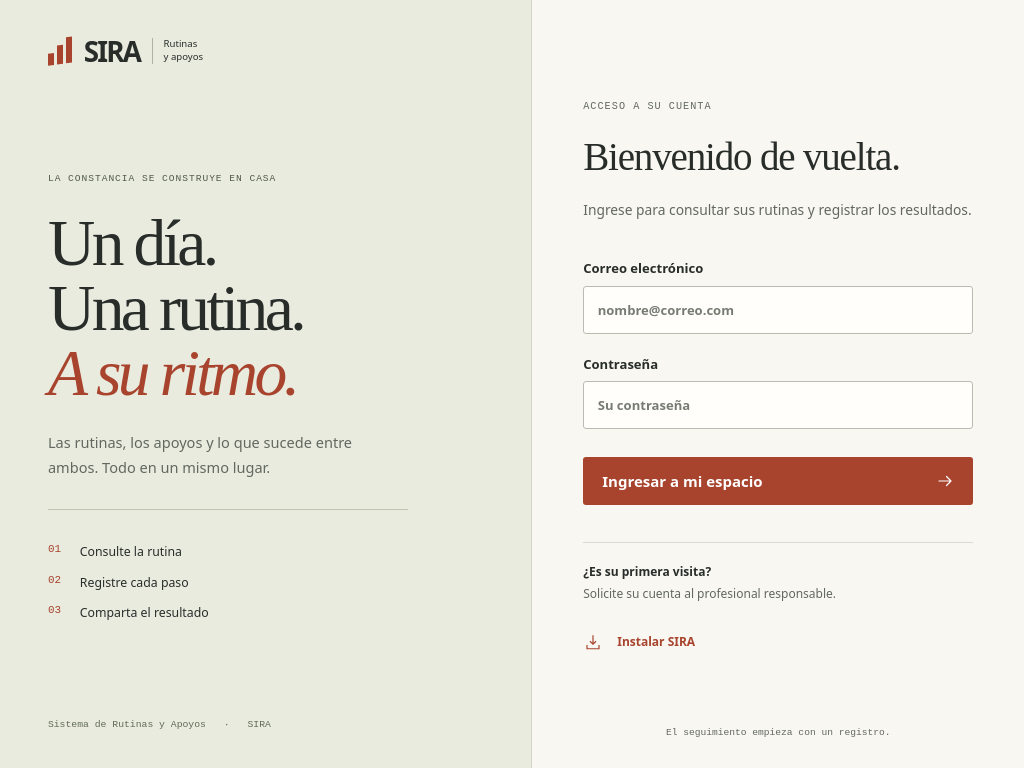
Test: si falla el acceso administrativo conserva el login y permite reintentar
Type "mariana@example.org" into the field labelled "Correo electrónico".
click(778, 310); type("mariana@example.org")  # box [583, 286, 973, 334]
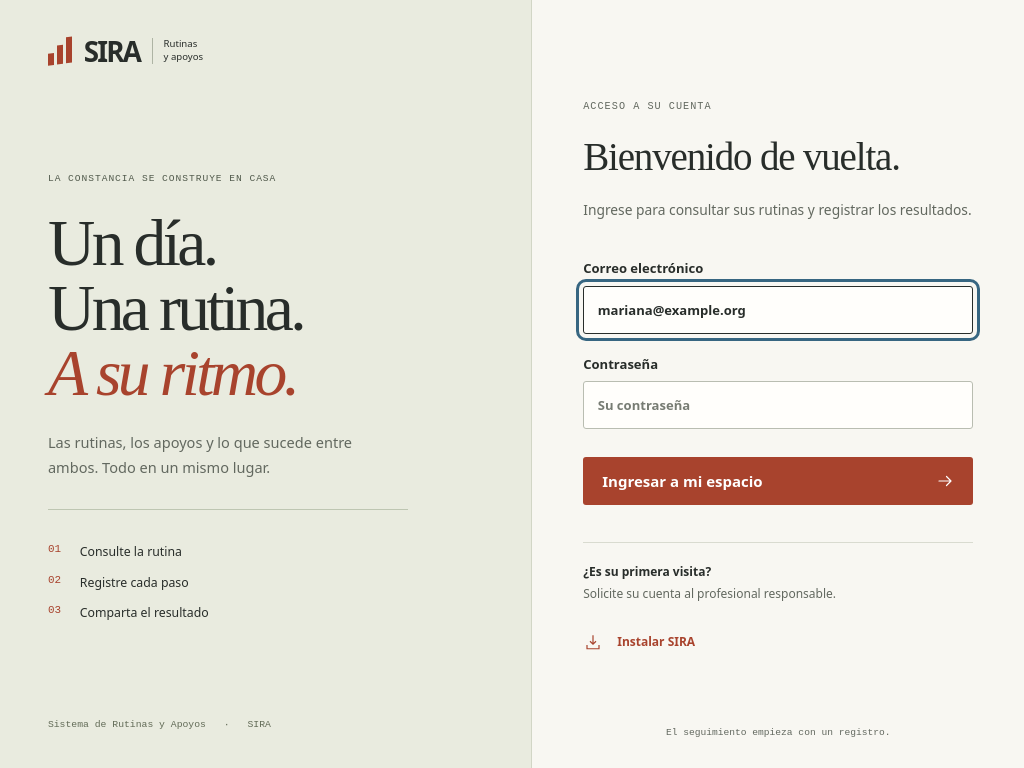
Type "PasswordPrueba2026!" into the password field labelled "Contraseña".
click(778, 405); type("PasswordPrueba2026!")  # box [583, 381, 973, 429]
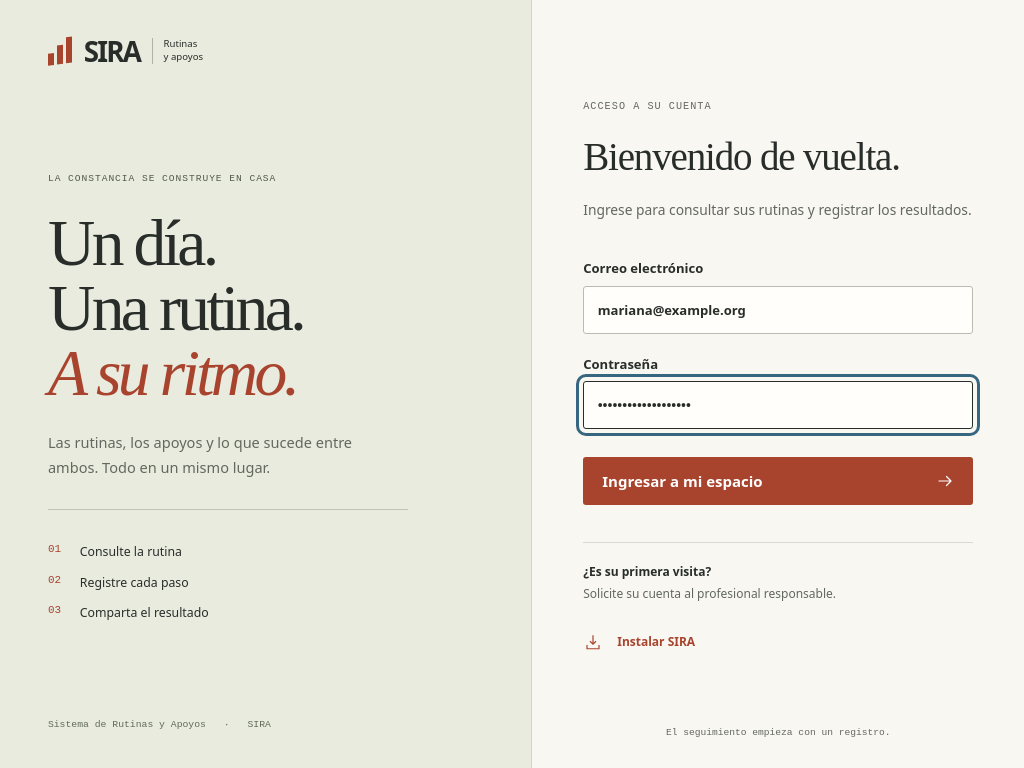
Click the button "Ingresar a mi espacio".
click(682, 481)  # box [583, 457, 973, 505]
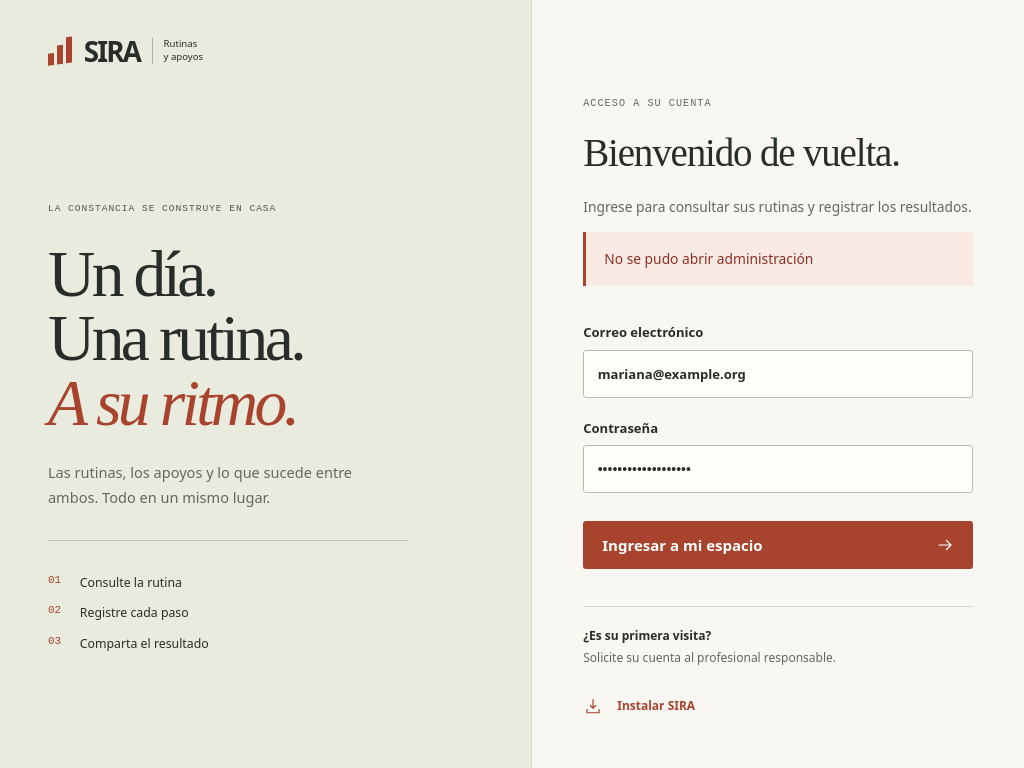
Result: the message reads "No se pudo abrir administración" at [604, 249, 813, 268]
